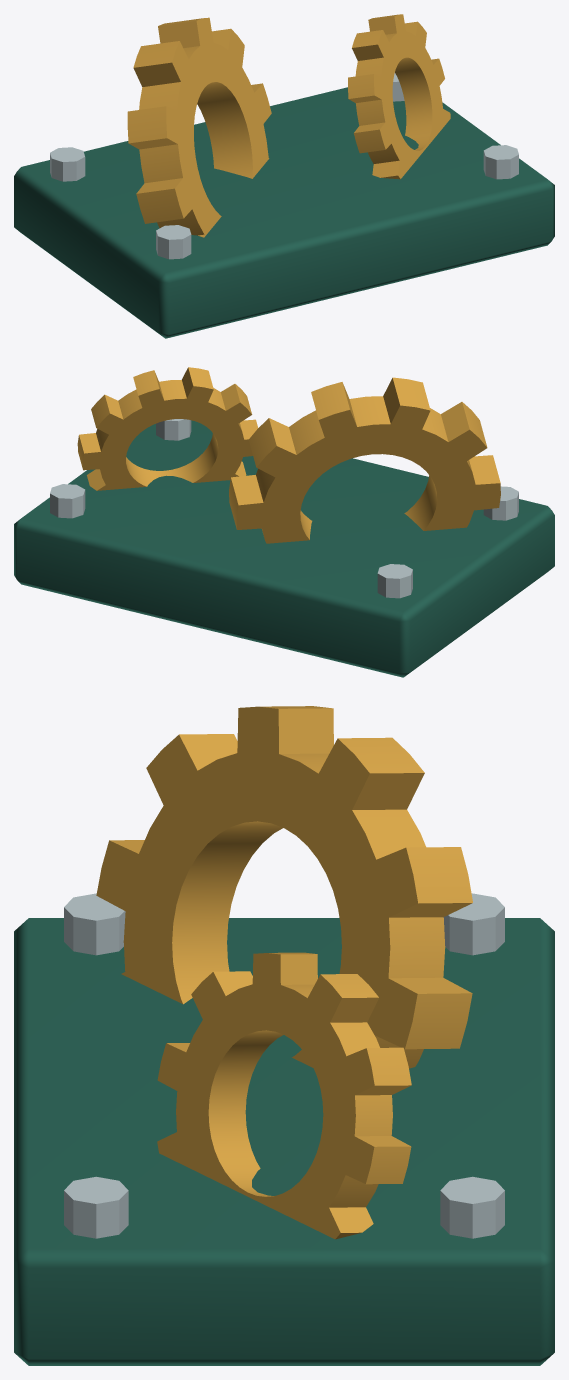
File: mechanism.glb
3 renders of one model, top to bottom at view 1: azimuth 30°, elevation 25°; view 2: azimuth 150°, elevation 25°; view 3: azimuth 270°, elevation 25°, orthographic. The views are drawn at different scales.
Parts seen in each view (by area): view 1: Mechanism frame, Collectible_Gear, Collectible_Gear.001, Rivet.001, Rivet.002, Rivet; view 2: Mechanism frame, Collectible_Gear, Collectible_Gear.001, Rivet.001, Rivet.003, Rivet, Rivet.002; view 3: Mechanism frame, Collectible_Gear, Collectible_Gear.001, Rivet.002, Rivet.003, Rivet, Rivet.001.
Part boxes in pixels (x1=…): Mechanism frame: x1=14, y1=87, x2=554, y2=338; Collectible_Gear: x1=127, y1=17, x2=271, y2=237; Collectible_Gear.001: x1=348, y1=14, x2=450, y2=179; Rivet.001: x1=50, y1=147, x2=85, y2=181; Rivet.002: x1=483, y1=145, x2=518, y2=179; Rivet: x1=156, y1=225, x2=191, y2=259; Mechanism frame: x1=14, y1=420, x2=554, y2=677; Collectible_Gear: x1=229, y1=377, x2=500, y2=543; Collectible_Gear.001: x1=77, y1=367, x2=257, y2=490; Rivet.001: x1=377, y1=564, x2=412, y2=598; Rivet.003: x1=50, y1=484, x2=85, y2=518; Rivet: x1=483, y1=486, x2=518, y2=520; Rivet.002: x1=156, y1=419, x2=191, y2=440; Mechanism frame: x1=14, y1=918, x2=554, y2=1365; Collectible_Gear: x1=96, y1=706, x2=472, y2=1068; Collectible_Gear.001: x1=157, y1=952, x2=411, y2=1239; Rivet.002: x1=64, y1=1176, x2=128, y2=1238; Rivet.003: x1=440, y1=1176, x2=504, y2=1238; Rivet: x1=64, y1=893, x2=125, y2=955; Rivet.001: x1=443, y1=893, x2=504, y2=955.
Size of the model in its own units: 1.38 by 0.8 by 0.92.
